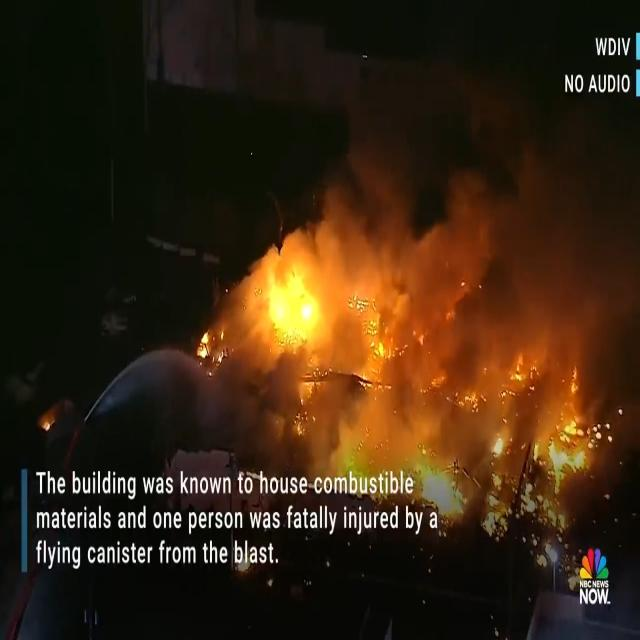fire: (359, 264, 509, 362), (296, 370, 394, 474), (498, 380, 600, 479), (254, 260, 340, 343), (412, 438, 485, 523), (395, 374, 493, 434)
